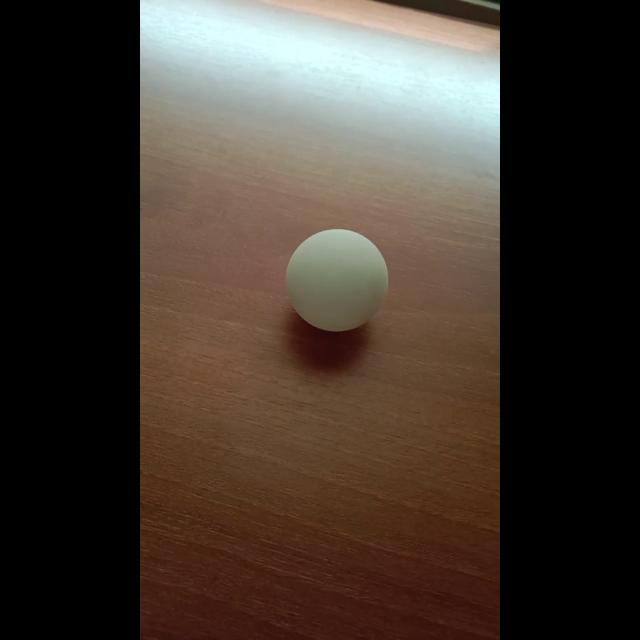white ball: (284, 228, 388, 332)
